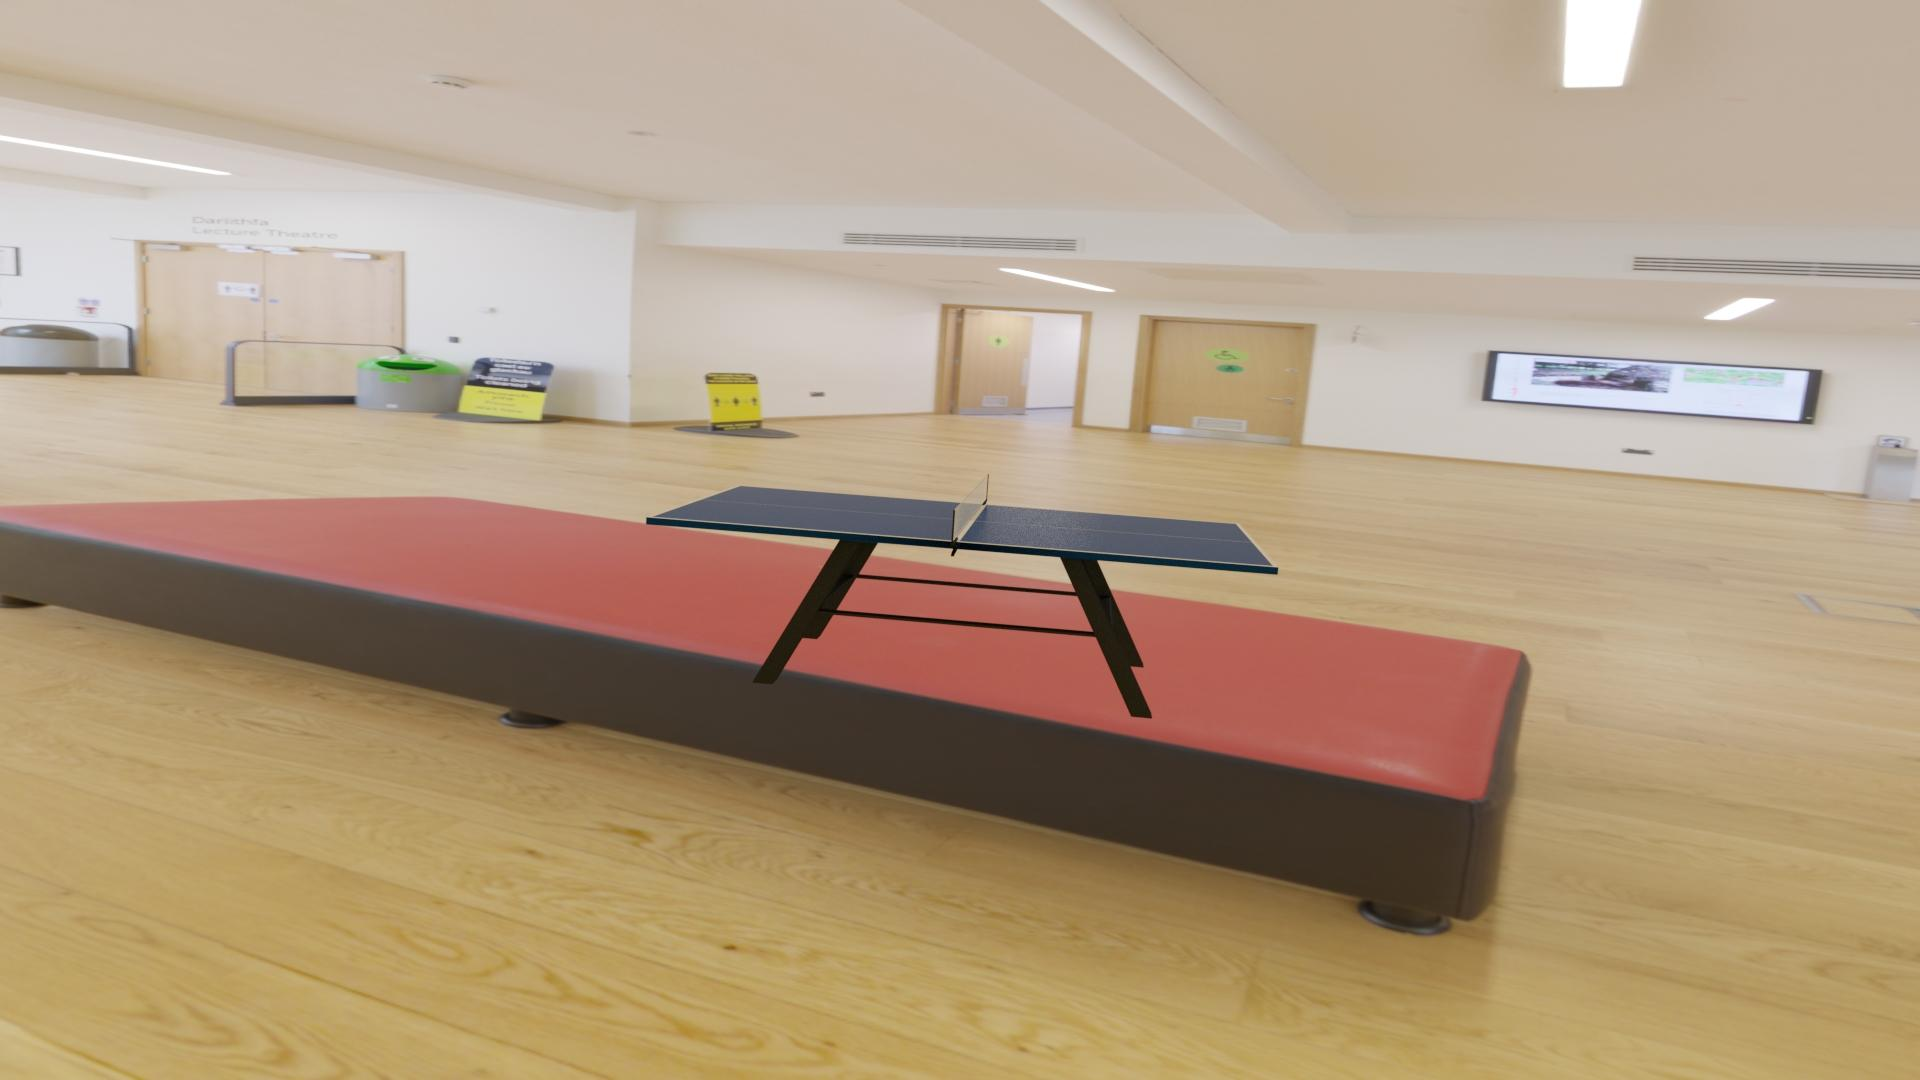table: (652, 486, 1273, 566)
